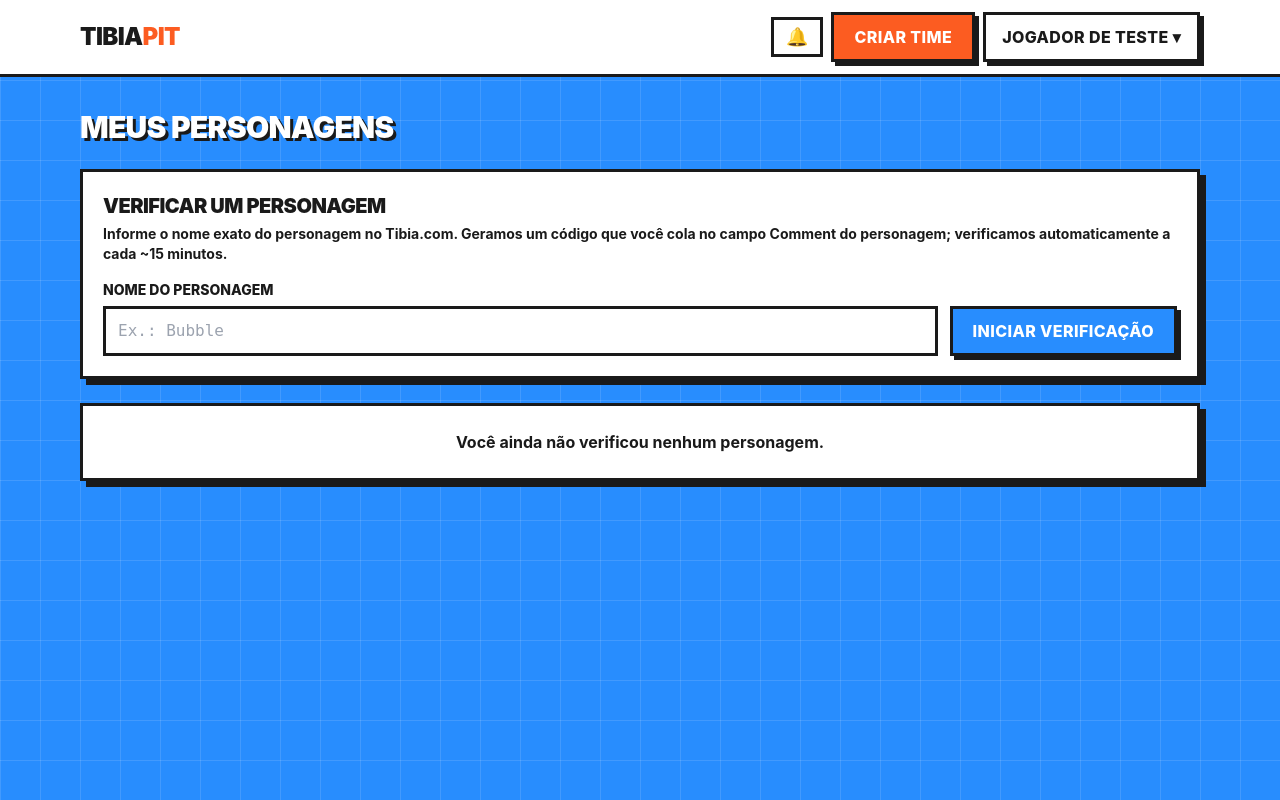
it: CharactersPage › recusa da TibiaData aparece na tela
The width and height of the screenshot is (1280, 800).
Type "Nao Existe" into the field labelled "Nome do personagem" at (520, 331), box [103,306,938,356]
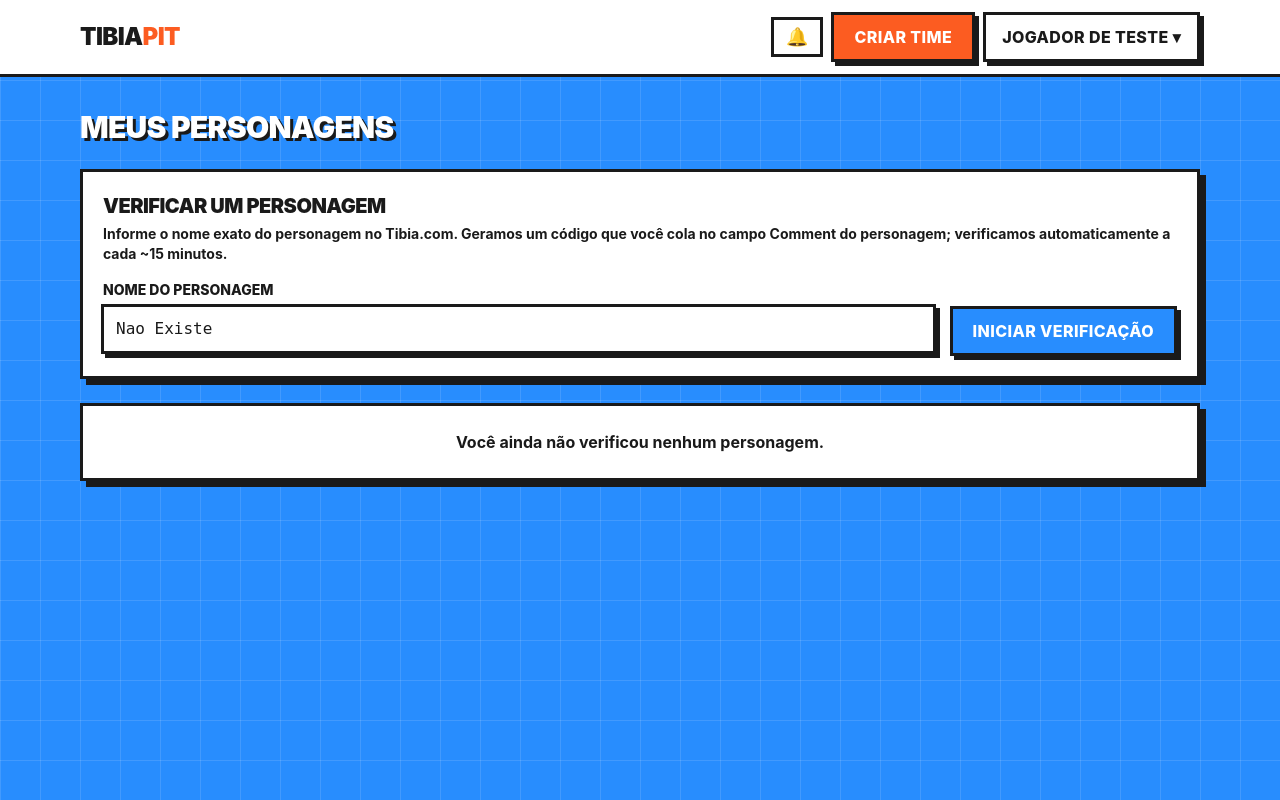
Click the button "Iniciar verificação" at (1063, 331), box [950,306,1177,356]
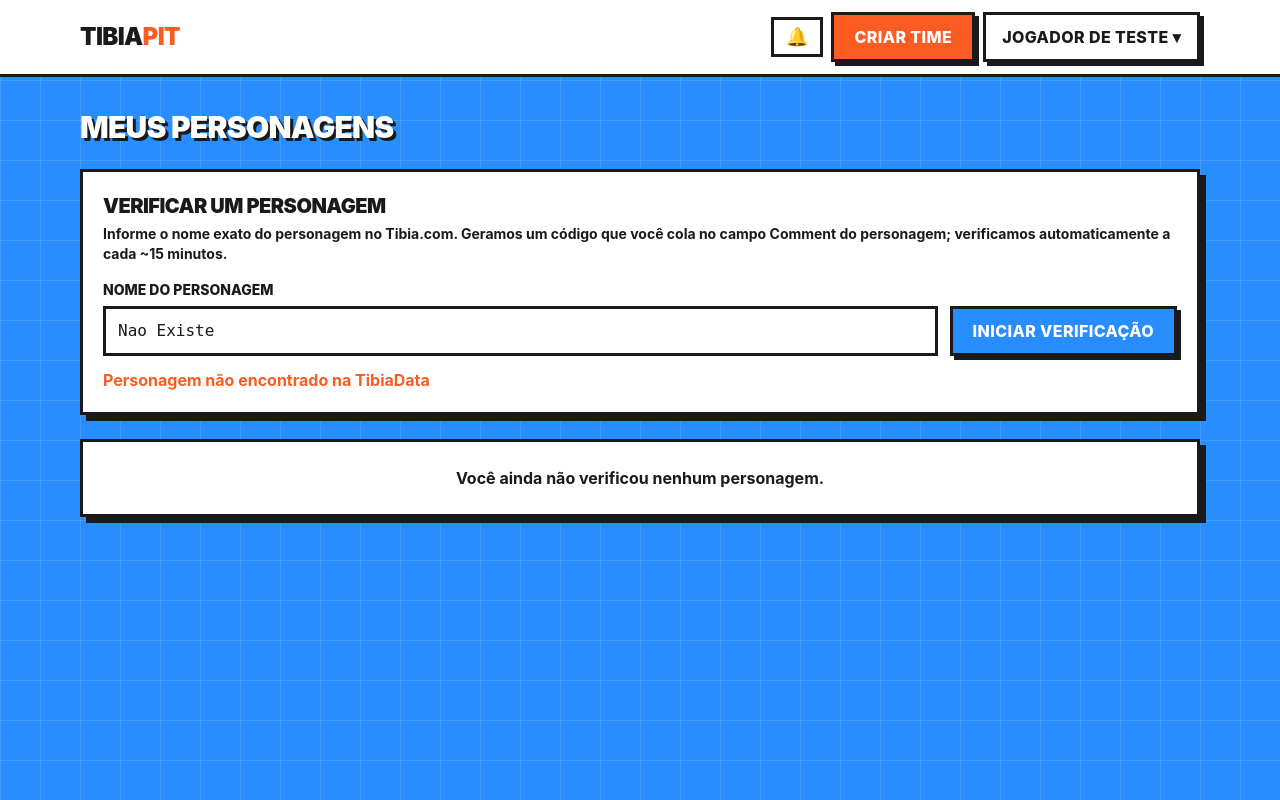
expect the text "Personagem não encontrado na TibiaData" is shown: met, box [103,370,430,390]
